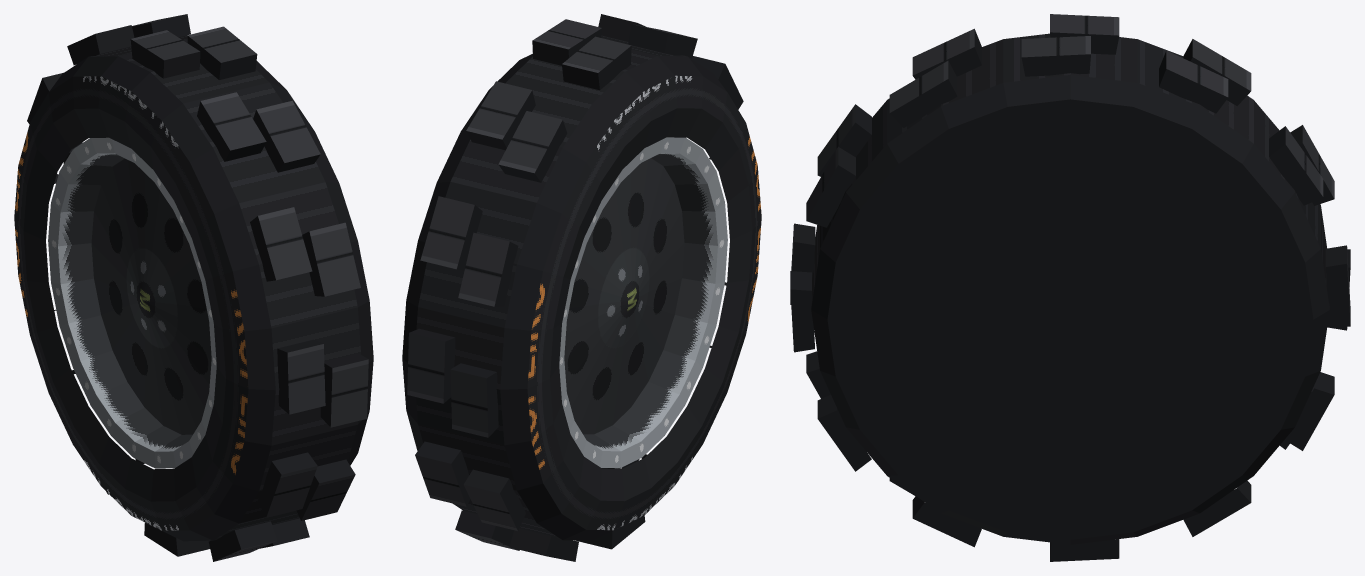
Rendered from mandacaru_trava_15_com_tropeiro_atolado_pro_direita.glb.
The picture shows the model from 3 angles, left to right: view 1: azimuth 30°, elevation 25°; view 2: azimuth 150°, elevation 25°; view 3: azimuth 270°, elevation 25°; orthographic projection. The views are drawn at different scales.
Parts seen in each view (by area): view 1: mandacaru_trava_15_com_tropeiro_atolado_pro_direita; view 2: mandacaru_trava_15_com_tropeiro_atolado_pro_direita; view 3: mandacaru_trava_15_com_tropeiro_atolado_pro_direita.
Boxes of the visible parts, left/top/right/bottom form: mandacaru_trava_15_com_tropeiro_atolado_pro_direita: left=14, top=14, right=373, bottom=561; mandacaru_trava_15_com_tropeiro_atolado_pro_direita: left=402, top=14, right=761, bottom=561; mandacaru_trava_15_com_tropeiro_atolado_pro_direita: left=790, top=14, right=1350, bottom=561.
Size of the model in its own units: 0.1901 by 0.6747 by 0.6747.
2 materials, 2 textured.
